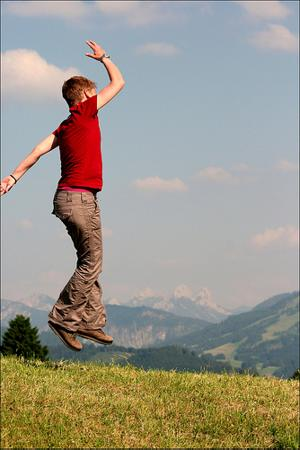person: (2, 38, 127, 350)
